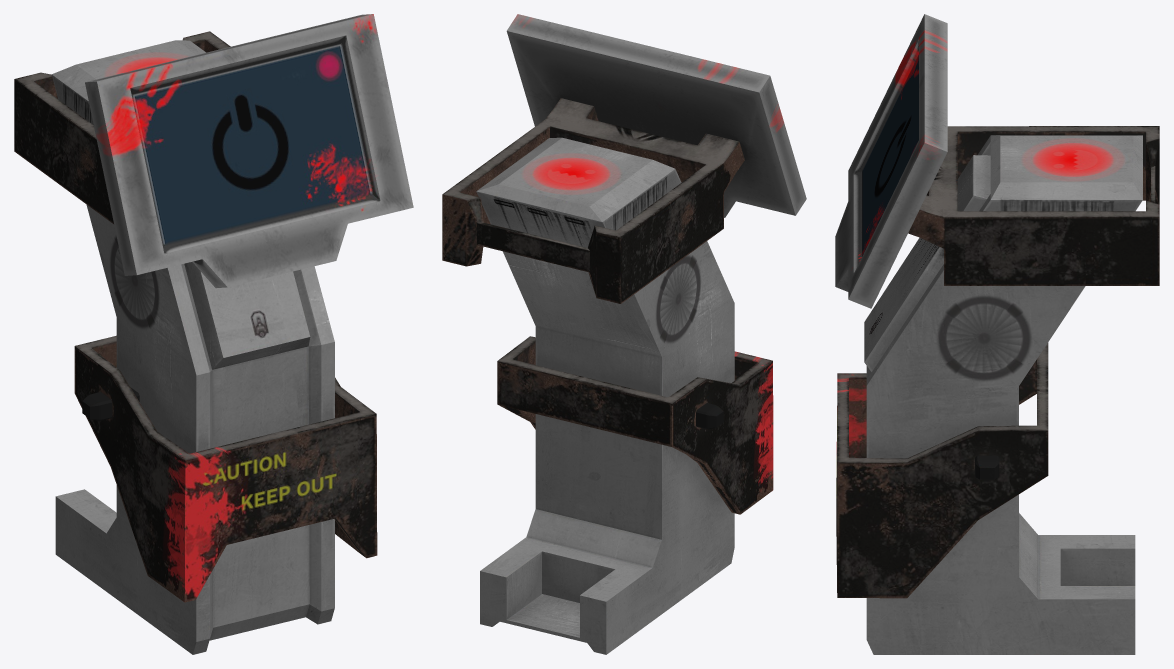
The model's file is industrial_computer.glb.
3 renders of one model, left to right at view 1: azimuth 30°, elevation 25°; view 2: azimuth 150°, elevation 25°; view 3: azimuth 270°, elevation 25°, orthographic. The views are drawn at different scales.
Visible parts, largest first — view 1: screen_low, middle_low, bar_low, back_low, support_low; view 2: middle_low, screen_low, back_low, bar_low, support_low; view 3: middle_low, bar_low, back_low, screen_low, support_low.
Boxes of the visible parts, x1,y1,x2,y2 form: screen_low: (85, 14, 413, 288); middle_low: (51, 40, 334, 654); bar_low: (74, 335, 377, 602); back_low: (14, 31, 230, 223); support_low: (82, 387, 139, 420); middle_low: (476, 137, 734, 654); screen_low: (506, 14, 806, 217); back_low: (442, 98, 744, 303); bar_low: (497, 336, 773, 514); support_low: (696, 403, 723, 429); middle_low: (864, 135, 1142, 654); bar_low: (836, 342, 1048, 598); back_low: (908, 126, 1159, 285); screen_low: (835, 14, 947, 308); support_low: (975, 455, 999, 479).
Size of the model in its own units: 1.01 by 2 by 1.08.
1 material, 1 textured.
